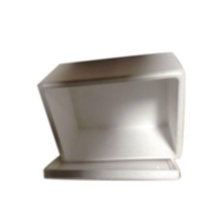foam_box: (30, 49, 194, 189)
